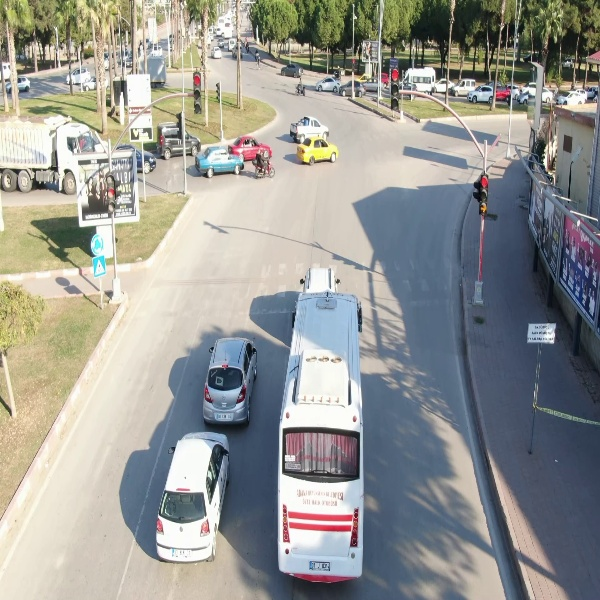car: (153, 428, 234, 566), (199, 334, 261, 427), (194, 144, 243, 177), (297, 135, 339, 165), (467, 84, 496, 105), (338, 79, 367, 98), (65, 66, 91, 87), (554, 89, 588, 105), (315, 75, 341, 92), (280, 62, 302, 78)
